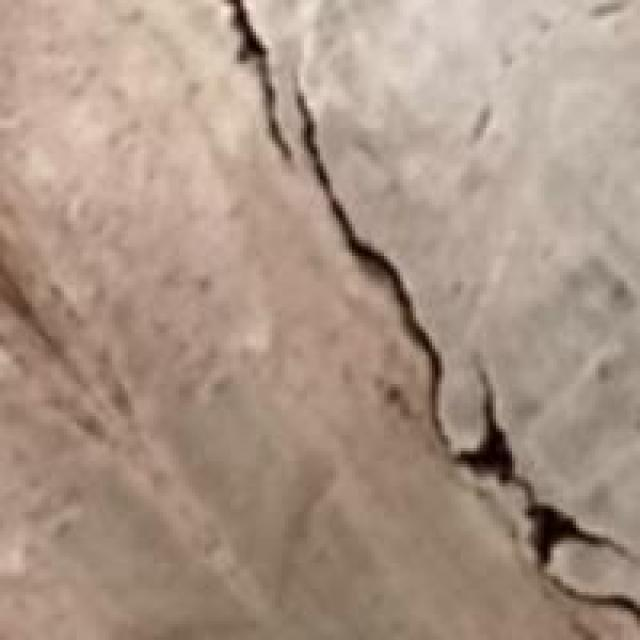crack: (205, 0, 637, 624)
